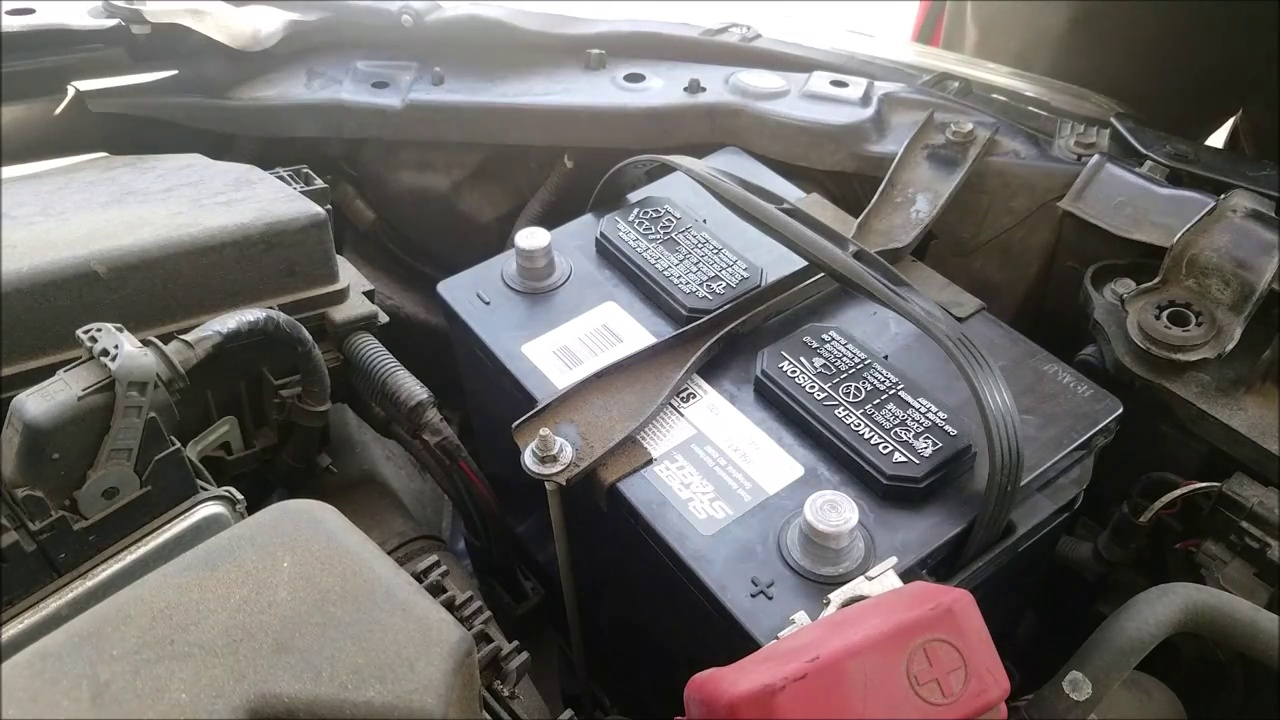battery: (454, 156, 1122, 638)
neg_disconnected: (458, 197, 600, 317)
pos_disconnected: (671, 448, 997, 719)
